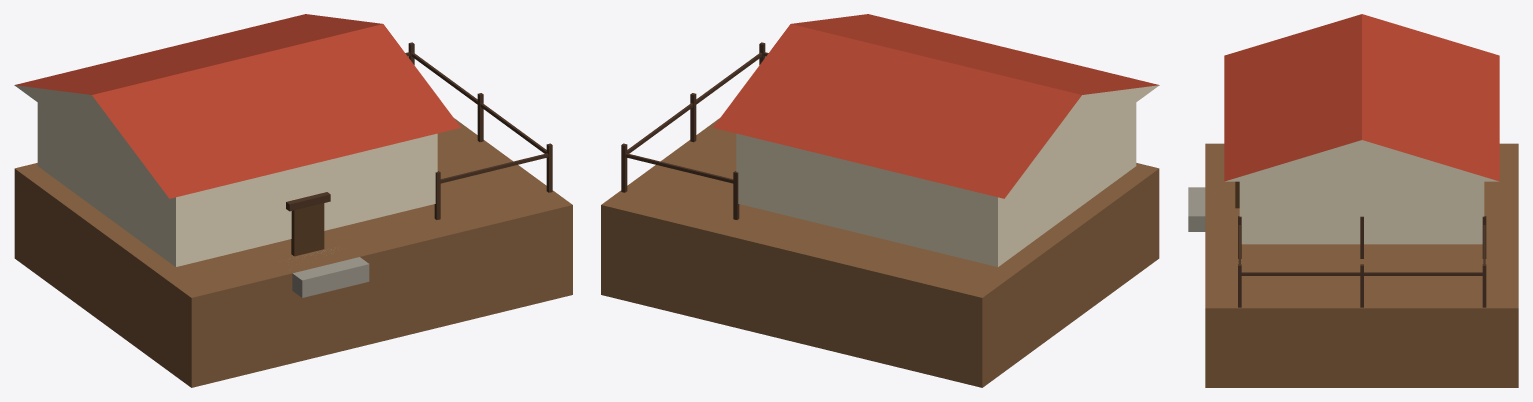
File: coop.glb
3 renders of one model, left to right at view 1: azimuth 30°, elevation 25°; view 2: azimuth 150°, elevation 25°; view 3: azimuth 270°, elevation 25°, orthographic. The views are drawn at different scales.
Parts seen in each view (by area): view 1: coop-col; view 2: coop-col; view 3: coop-col.
Boxes of the visible parts, box(x1,y1,x2,y2) form: coop-col: box(14, 14, 572, 387); coop-col: box(601, 14, 1159, 387); coop-col: box(1188, 14, 1518, 387).
Size of the model in its own units: 10.5 by 5.9 by 8.65.
